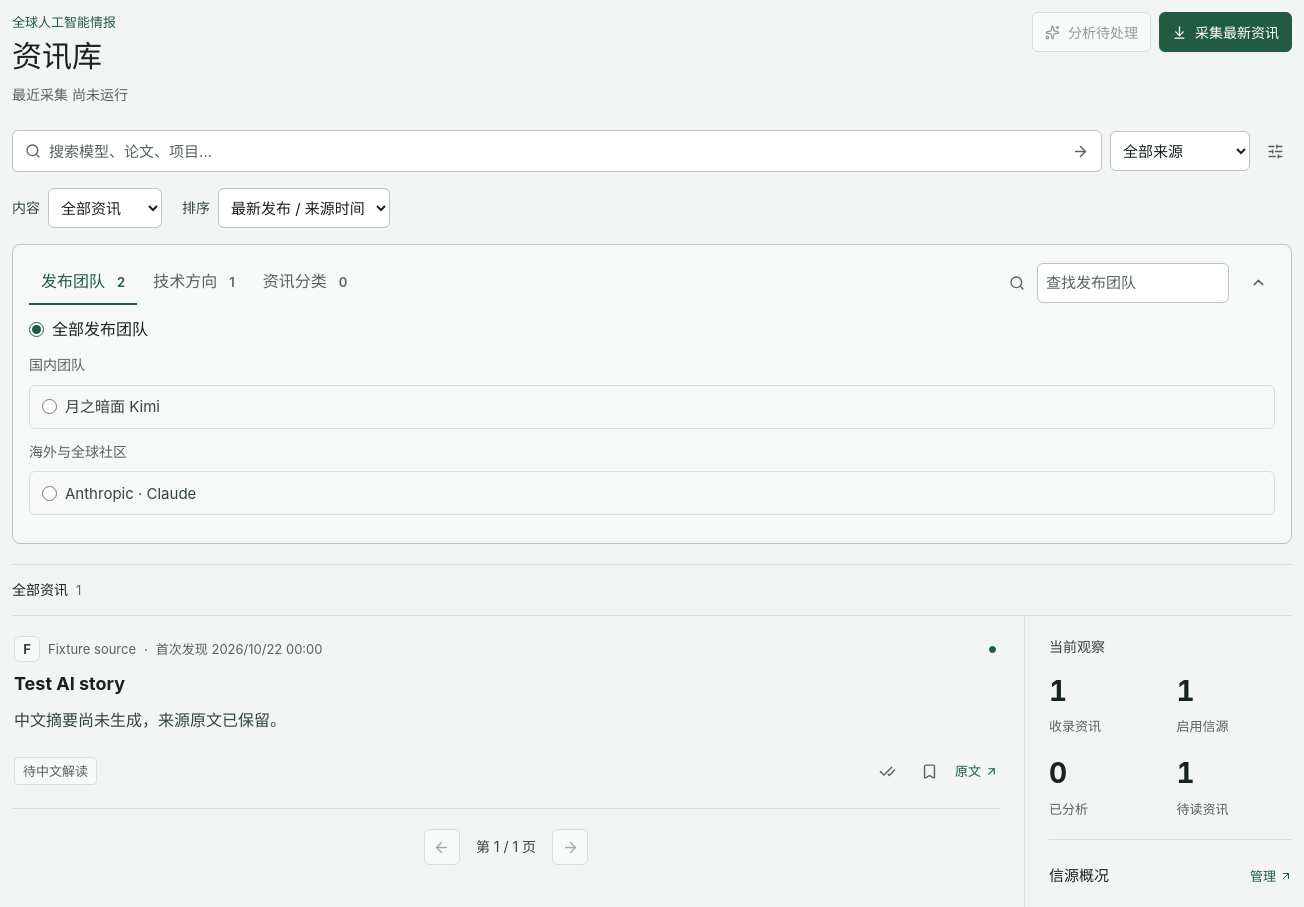
it: feed interactions using isolated fixtures › scopes citation and platform popularity sorts to the matching content
The width and height of the screenshot is (1304, 907).
Expected: the button "Test AI story" is shown, [14, 670, 998, 698]
Select "论文 · 被引次数" in the dropdown named "排序方式" at [304, 208], box [218, 188, 390, 228]
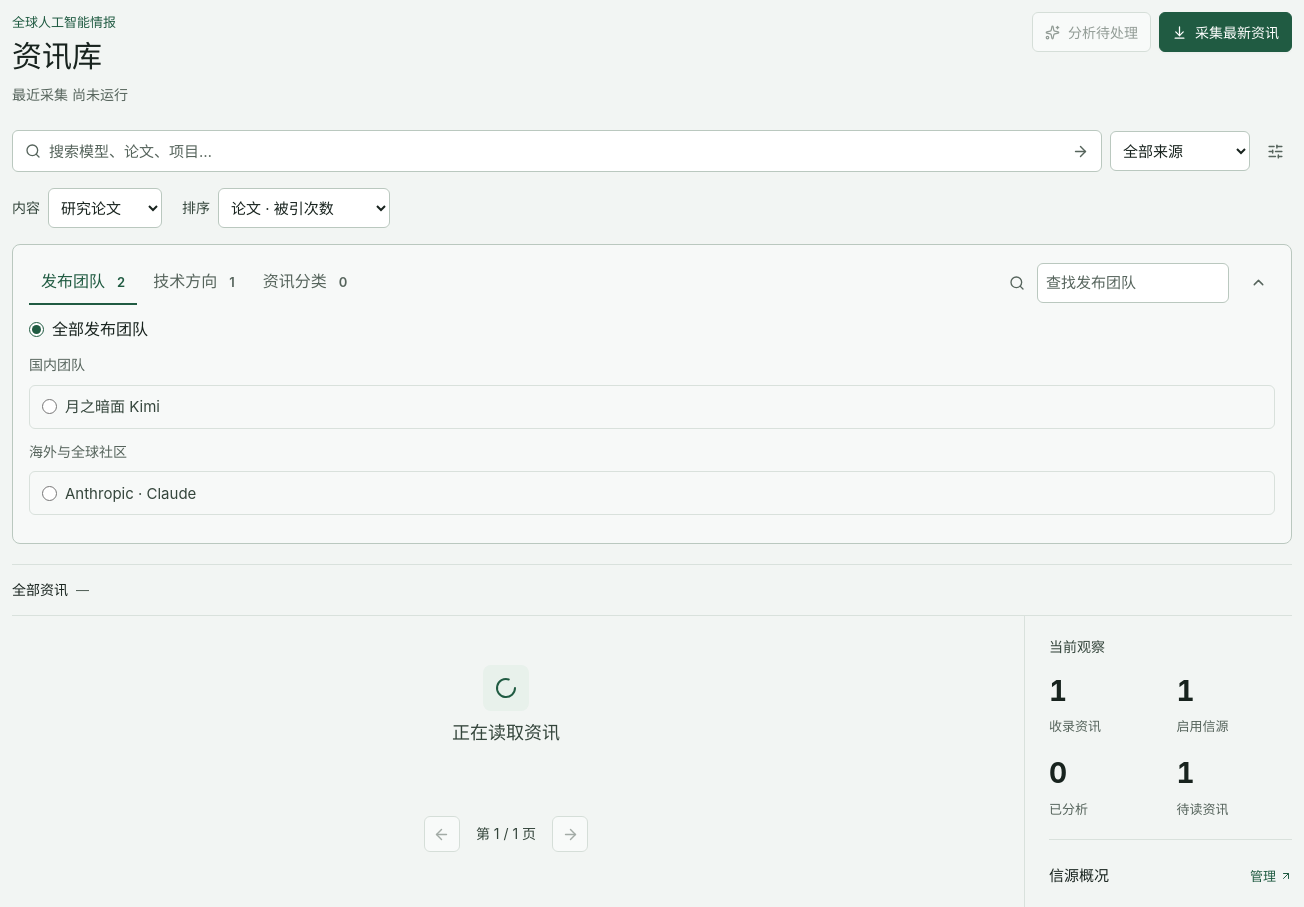
Expected: the dropdown named "资讯内容类型" shows "研究论文", [48, 188, 162, 228]
Select "HN 讨论 · Points" in the dropdown named "排序方式" at [304, 208], box [218, 188, 390, 228]
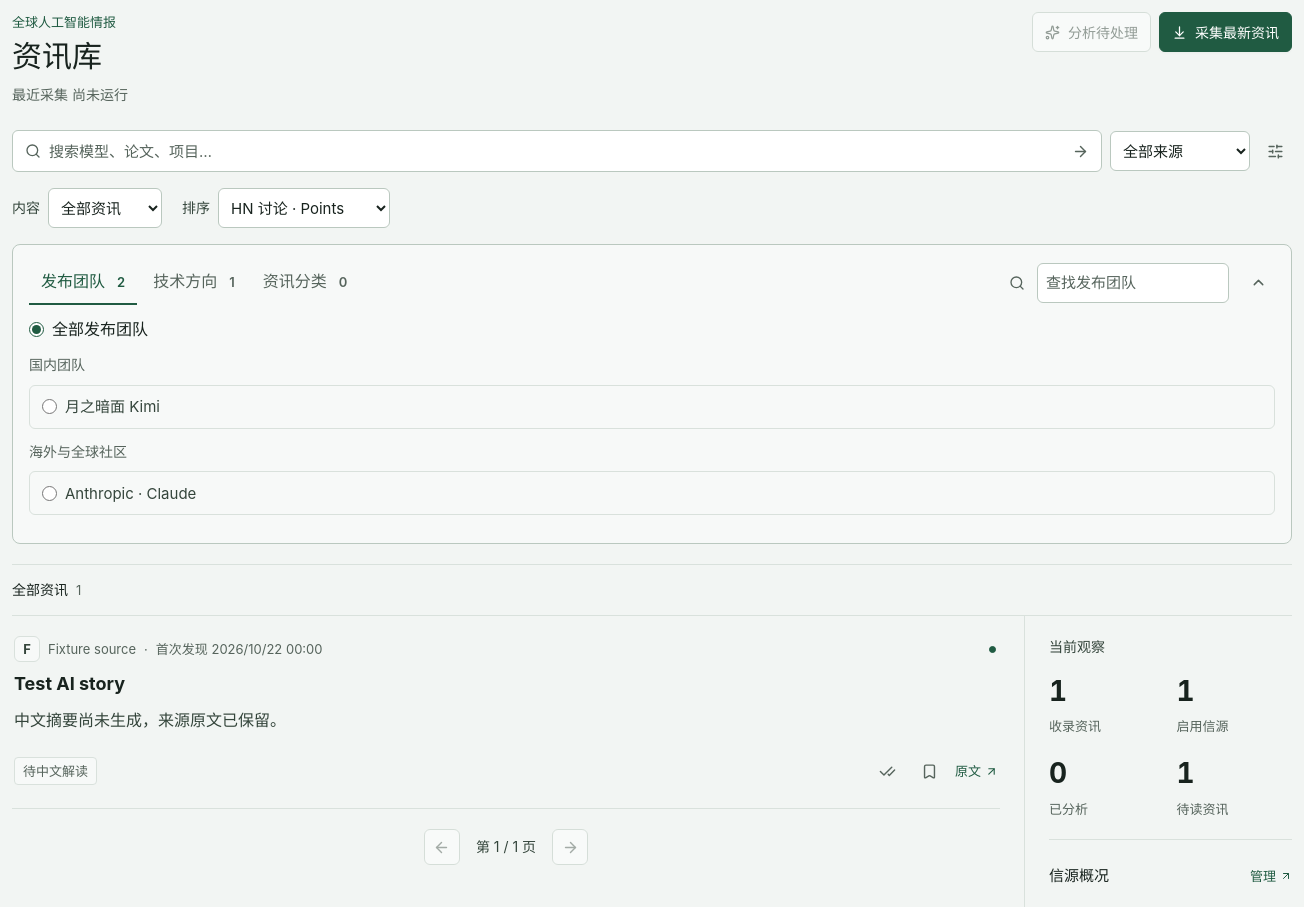
Expected: the dropdown named "资讯内容类型" shows "全部资讯", [48, 188, 162, 228]
